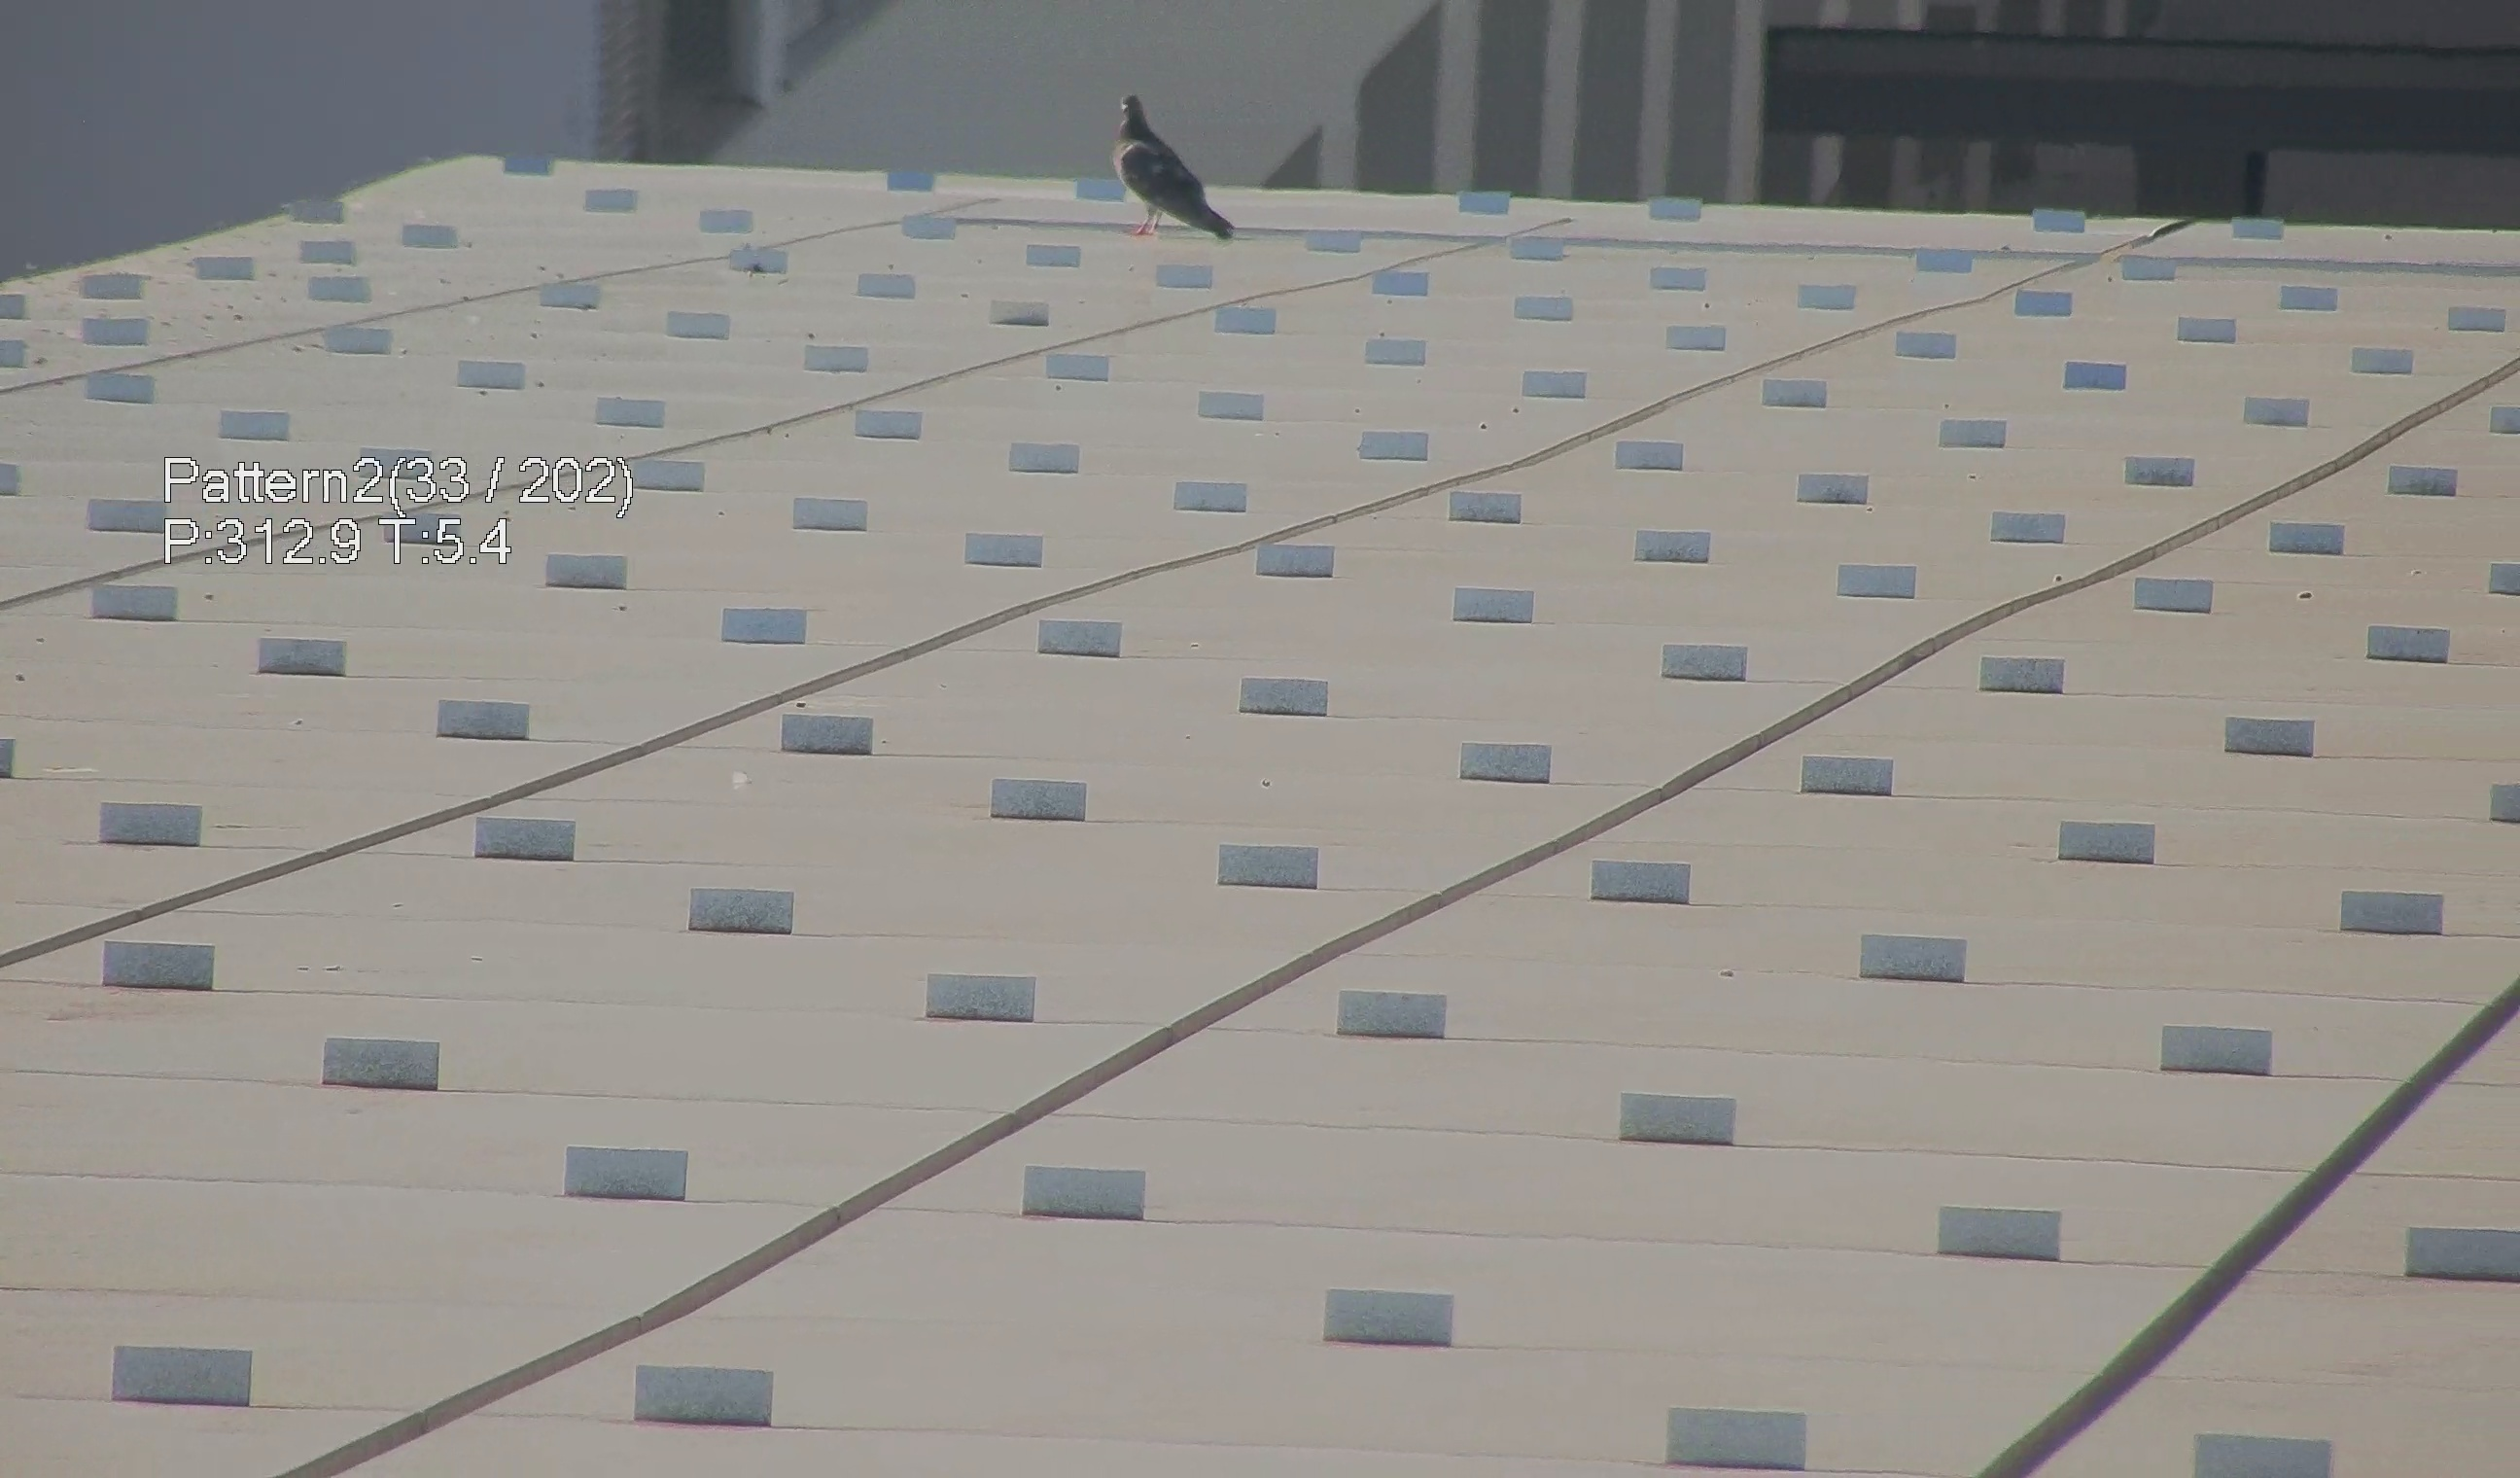Pigeon: (1099, 81, 1236, 245)
